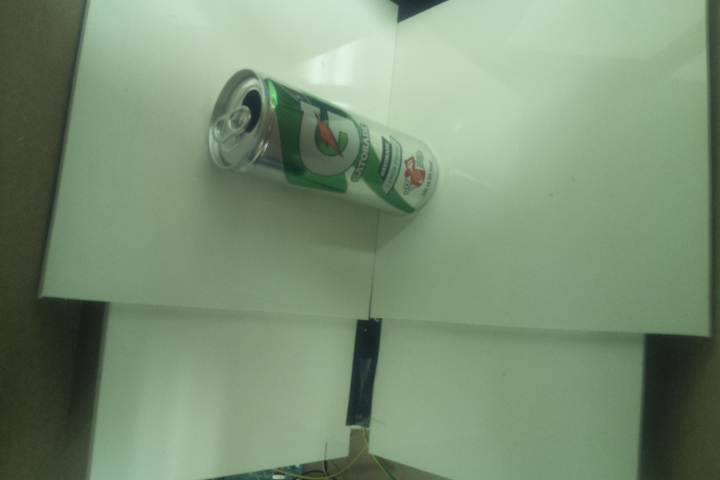can: (203, 62, 440, 219)
